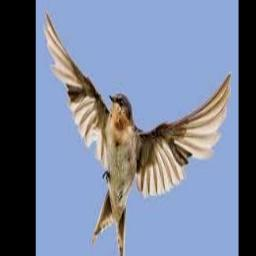Swallow: (44, 9, 232, 256)
